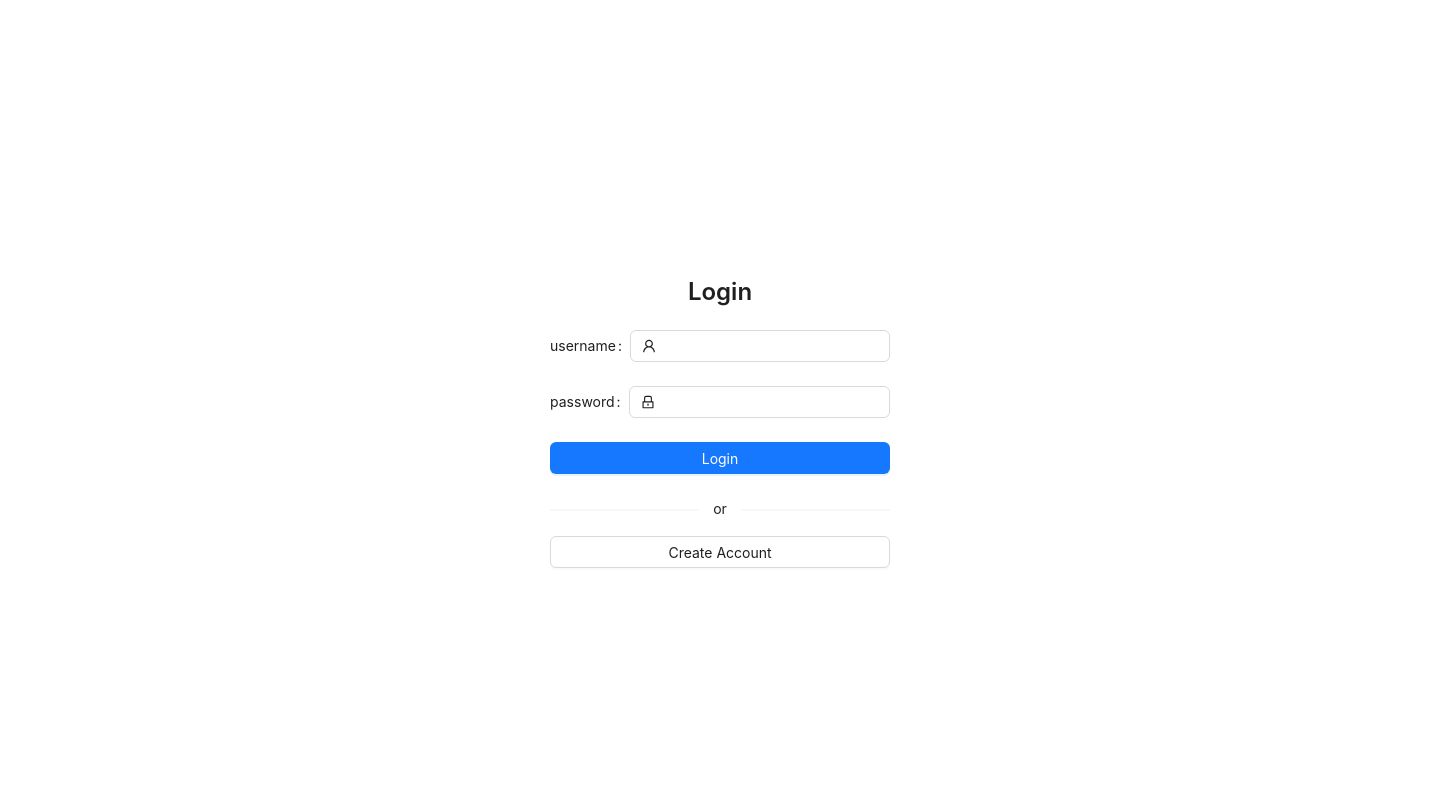
Test: Auth › click the register button › should render the registration form modal
Click the button "Create Account".
click(720, 552)  # box [550,536,890,568]
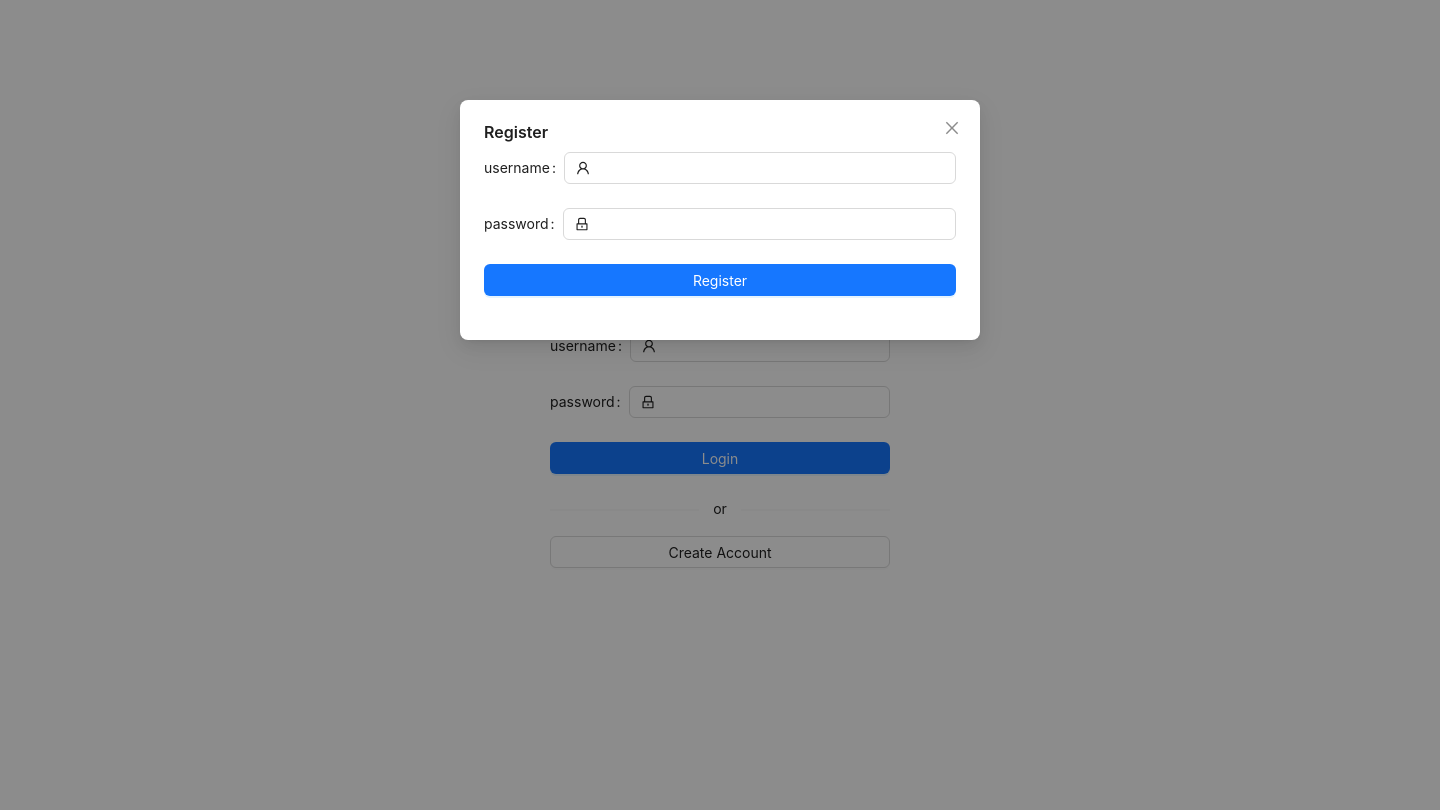
Result: the button "Register" is shown at [484,264,956,296]
